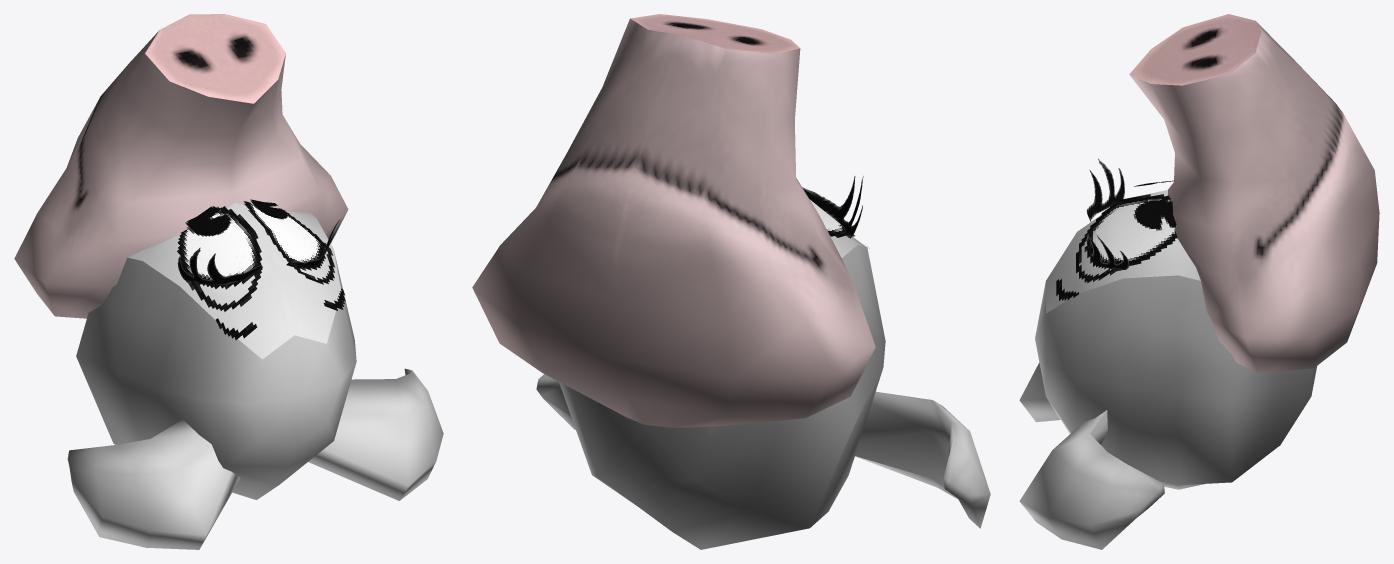
Rendered from ssl.glb.
The picture shows the model from 3 angles, left to right: view 1: azimuth 30°, elevation 25°; view 2: azimuth 150°, elevation 25°; view 3: azimuth 270°, elevation 25°; orthographic projection. The views are drawn at different scales.
Parts seen in each view (by area): view 1: muzzle-long-neutral, head-short, ears-short, head-front-short, eyes-short, eyelashes, joint_pupilL_short; view 2: muzzle-long-neutral, head-short, ears-short, eyelashes; view 3: muzzle-long-neutral, head-short, ears-short, eyes-short, head-front-short, eyelashes, joint_pupilR_short.
Boxes of the visible parts, <box> form: muzzle-long-neutral: <box>14,14,348,318</box>; head-short: <box>76,251,356,499</box>; ears-short: <box>67,368,443,549</box>; head-front-short: <box>127,202,341,359</box>; eyes-short: <box>177,201,345,339</box>; eyelashes: <box>177,220,339,284</box>; joint_pupilL_short: <box>185,205,231,236</box>; muzzle-long-neutral: <box>472,14,875,427</box>; head-short: <box>559,245,885,549</box>; ears-short: <box>536,374,990,528</box>; eyelashes: <box>802,176,863,238</box>; muzzle-long-neutral: <box>1129,14,1379,372</box>; head-short: <box>1035,275,1316,489</box>; ears-short: <box>1019,362,1164,549</box>; eyes-short: <box>1056,194,1177,300</box>; head-front-short: <box>1046,190,1200,313</box>; eyelashes: <box>1086,158,1129,269</box>; joint_pupilR_short: <box>1133,198,1177,230</box>.
Size of the model in its own units: 1.49 by 1.8 by 1.28.
Materials: 6 (6 with a texture image).
